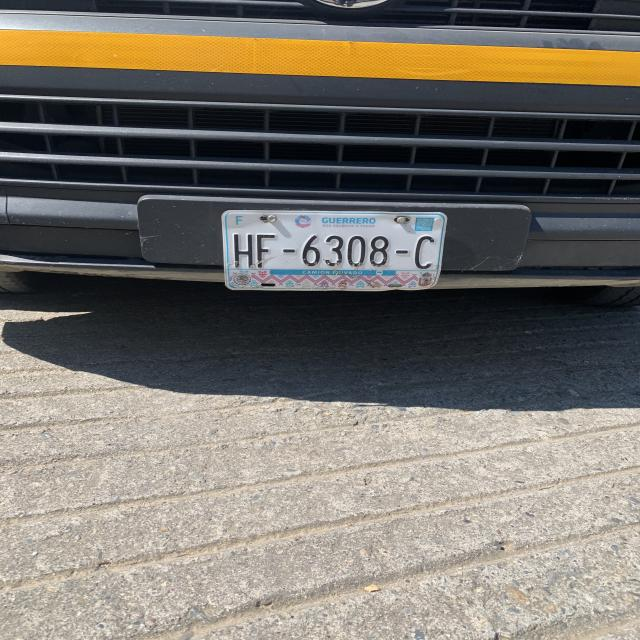placa: (231, 230, 439, 271)
